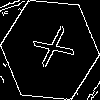X: (25, 25, 75, 74)
